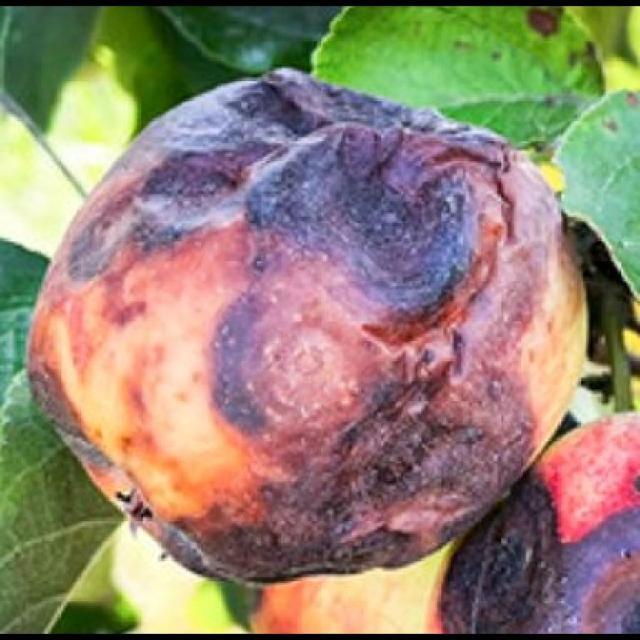Rotten Apple: (23, 63, 592, 589)
